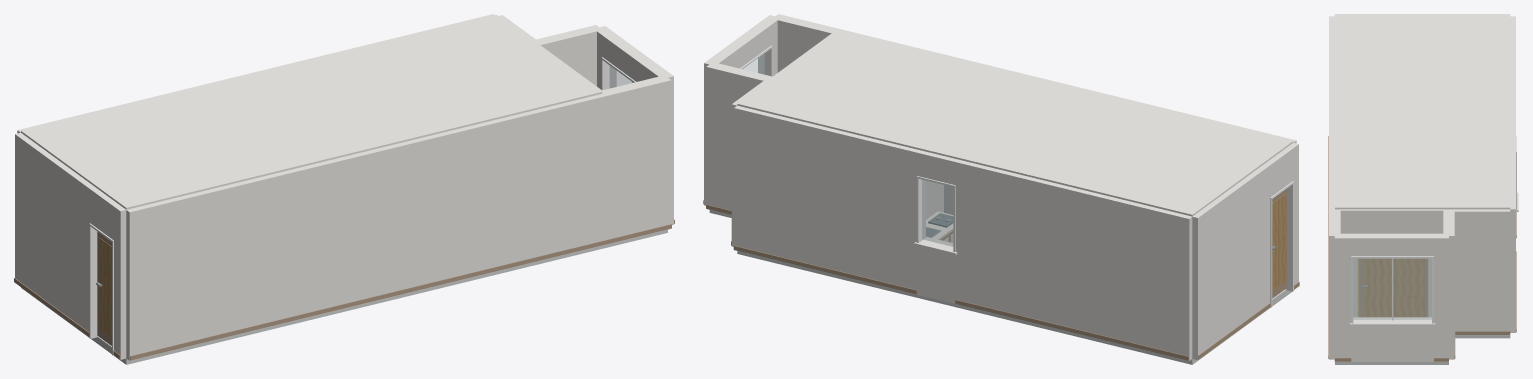
Rendered from one-02.glb.
3 renders of one model, left to right at view 1: azimuth 30°, elevation 25°; view 2: azimuth 150°, elevation 25°; view 3: azimuth 270°, elevation 25°, orthographic. The views are drawn at different scales.
Parts seen in each view (by area): view 1: 一居02_architecture_plaster, 一居02_ceiling_plaster, 一居02_trim_wood, 一居02_slab_slab, 一居02_frames_ceramic, 门扇_entry_oak; view 2: 一居02_architecture_plaster, 一居02_ceiling_plaster, 一居02_trim_wood, 一居02_frames_ceramic, 一居02_glass_glass, 一居02_slab_slab, 门扇_entry_oak; view 3: 一居02_ceiling_plaster, 一居02_architecture_plaster, 一居02_glass_glass, 门扇_bal-door_oak, 一居02_frames_ceramic, 一居02_frames_marble, 一居02_trim_wood, 一居02_slab_slab, 门扇_bal-door_wood.
Boxes of the visible parts, x1,y1,x2,y2 form: 一居02_architecture_plaster: (15, 14, 673, 360); 一居02_ceiling_plaster: (21, 14, 602, 209); 一居02_trim_wood: (14, 219, 674, 360); 一居02_slab_slab: (21, 229, 667, 364); 一居02_frames_ceramic: (89, 57, 635, 355); 门扇_entry_oak: (99, 237, 111, 337); 一居02_architecture_plaster: (704, 14, 1298, 360); 一居02_ceiling_plaster: (737, 30, 1293, 216); 一居02_trim_wood: (703, 200, 1299, 360); 一居02_frames_ceramic: (740, 45, 1293, 307); 一居02_glass_glass: (743, 53, 952, 246); 一居02_slab_slab: (709, 210, 1291, 364); 门扇_entry_oak: (1272, 193, 1286, 290); 一居02_ceiling_plaster: (1335, 15, 1510, 209); 一居02_architecture_plaster: (1329, 14, 1515, 361); 一居02_glass_glass: (1353, 259, 1431, 319); 门扇_bal-door_oak: (1362, 258, 1425, 317); 一居02_frames_ceramic: (1351, 135, 1516, 323); 一居02_frames_marble: (1350, 192, 1518, 325); 一居02_trim_wood: (1328, 136, 1516, 361); 一居02_slab_slab: (1335, 335, 1510, 364); 门扇_bal-door_wood: (1358, 258, 1428, 317).
Bounding box in the file's own units: 10.8 × 2.91 × 3.84.
Materials: 13 (2 with a texture image).
